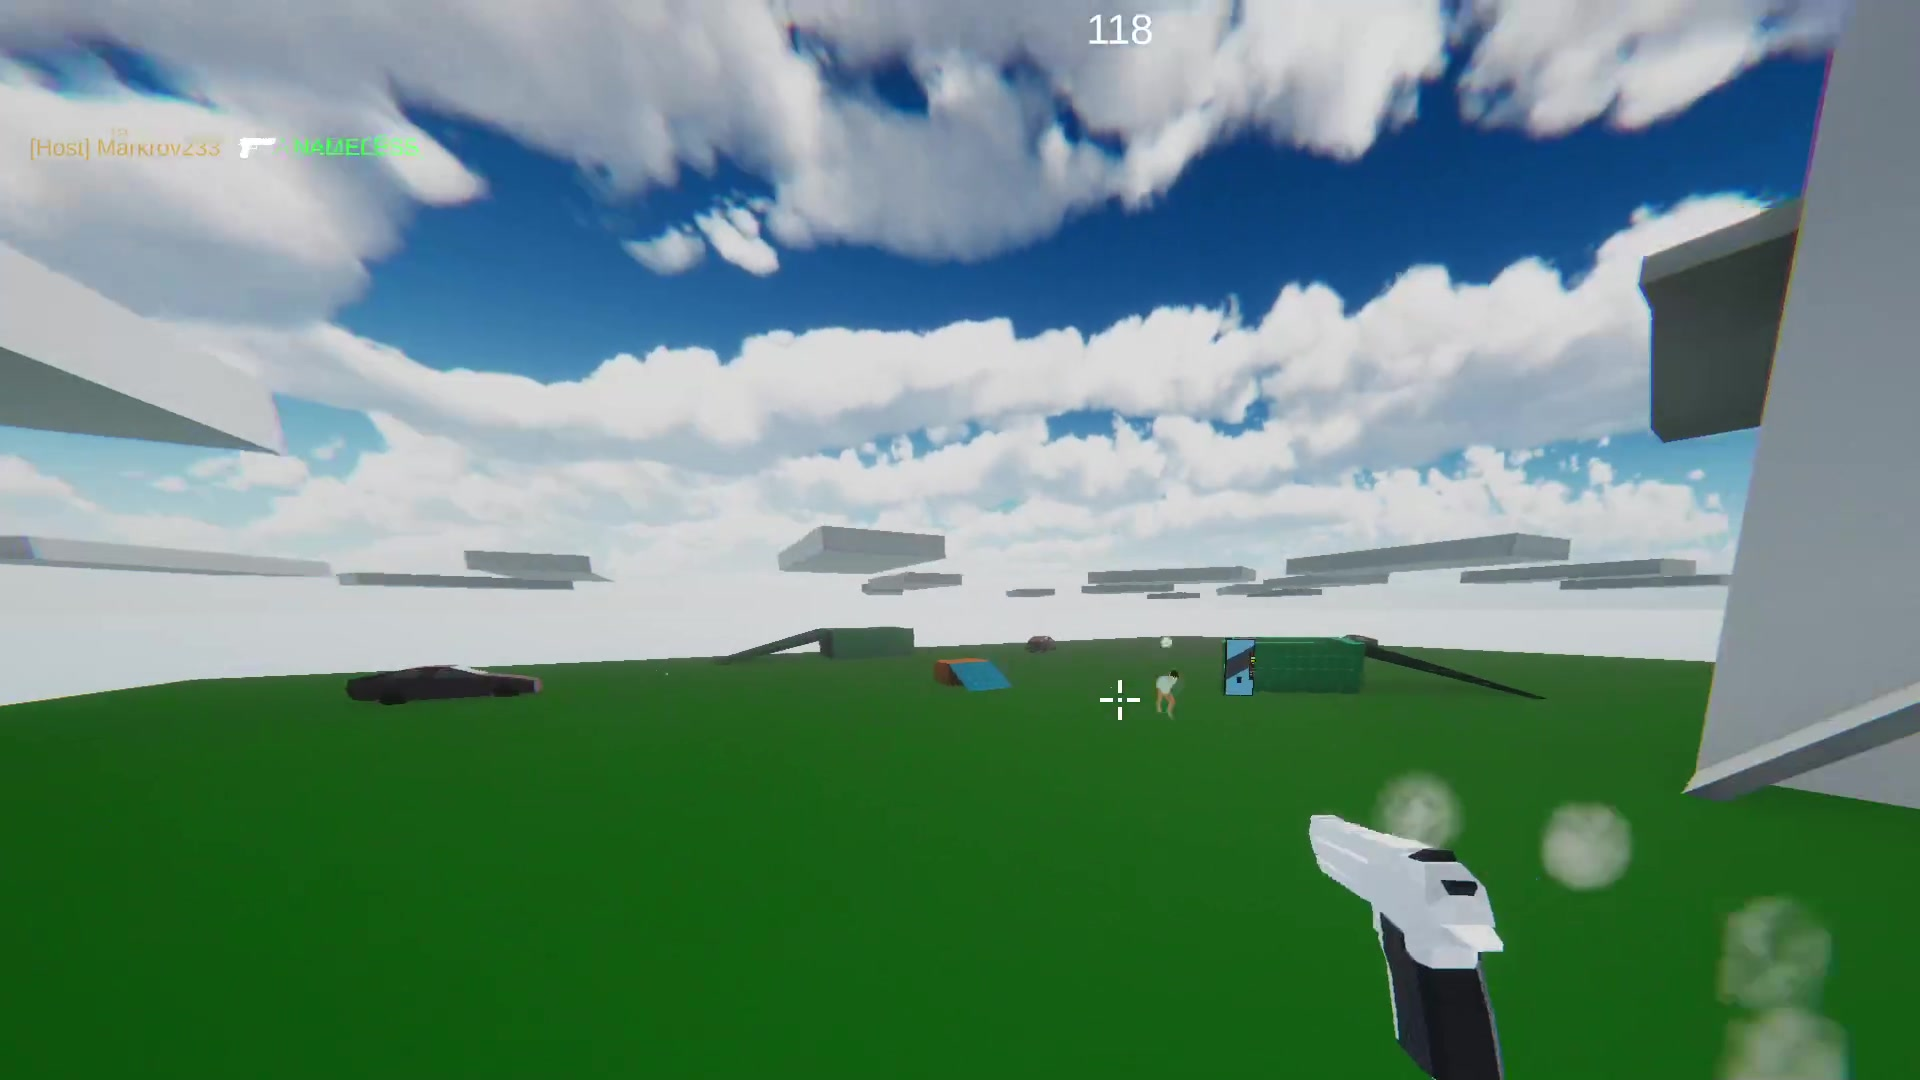human: (1153, 669, 1177, 719)
